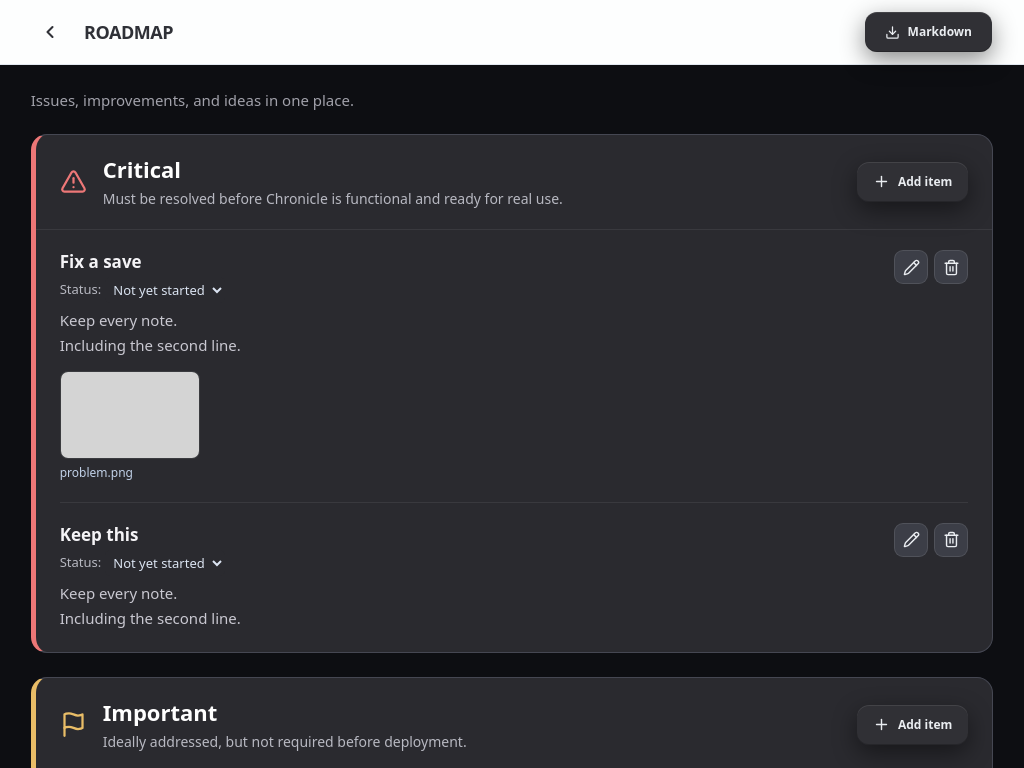
Chronicle Roadmap › cleans up screenshots only after the user confirms deletion and the list save succeeds
The image size is (1024, 768).
Check: the heading "Critical" is shown, box [103,154,181,184]
Step 1. Click the button named "Delete Fix a save" → x=951, y=267, box [934,250,968,284]
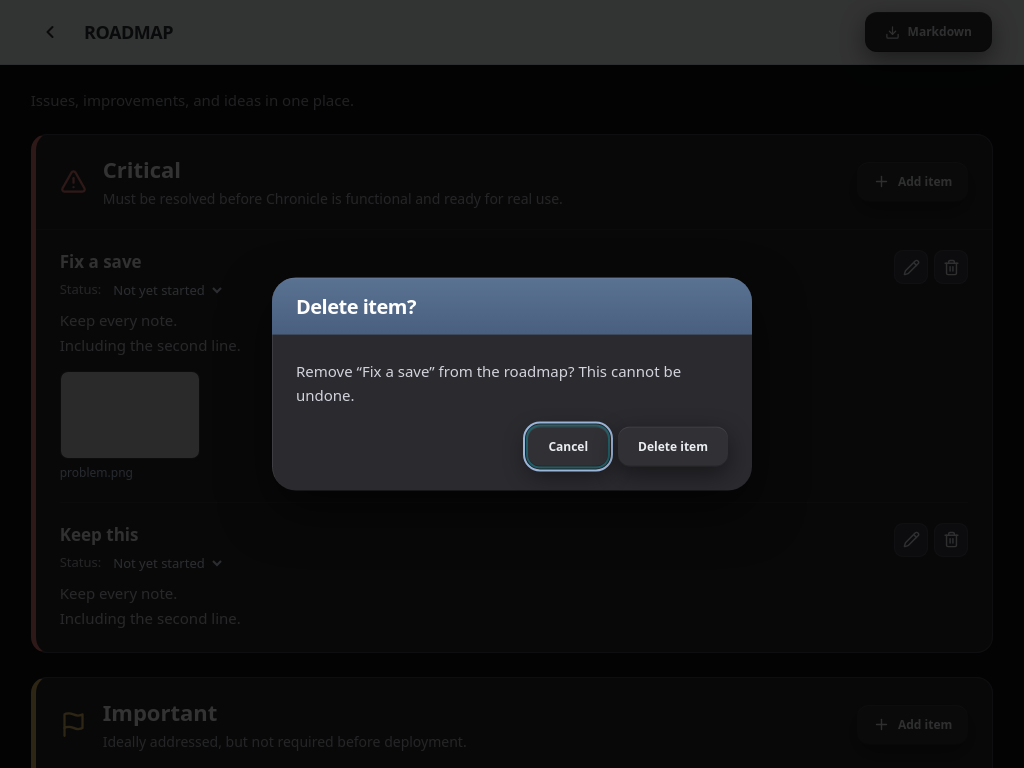
Step 2. Click the button "Delete item" → x=673, y=446, box [618,426,728,466]
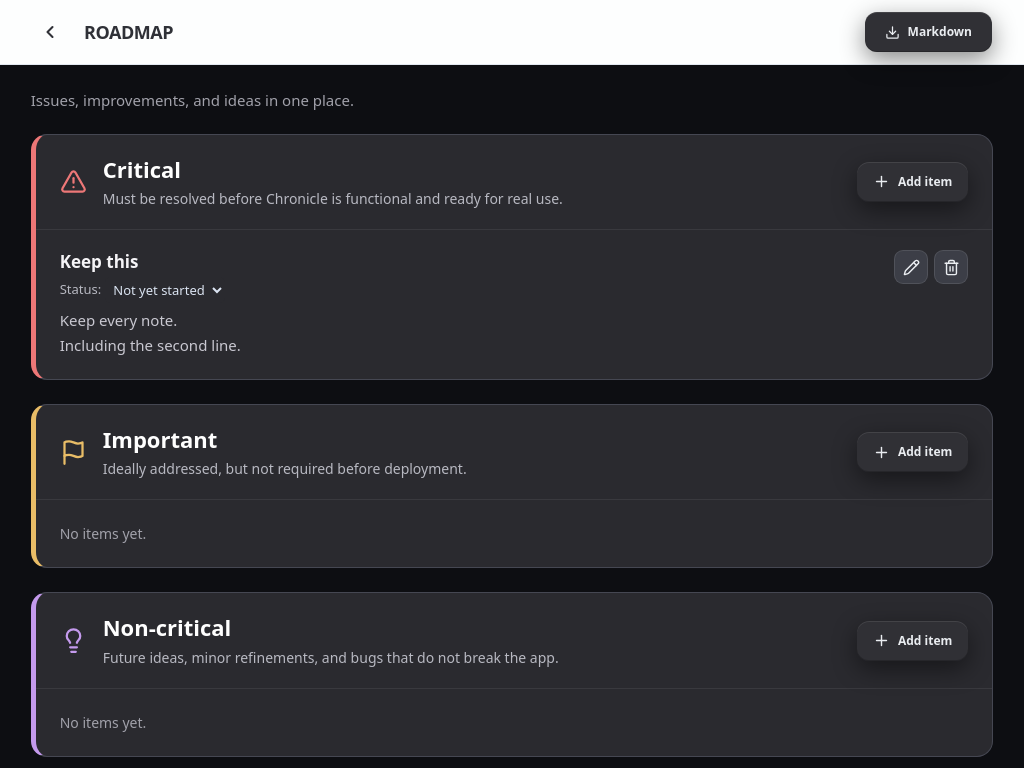
Check: the dialog is gone
